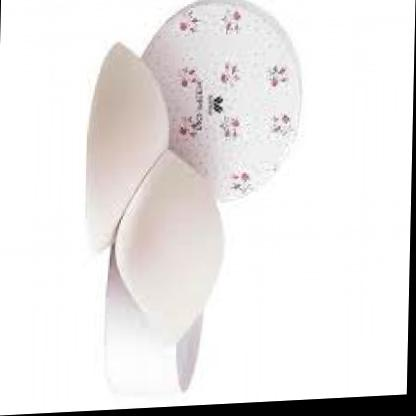Miscellaneous: (37, 0, 362, 414)
